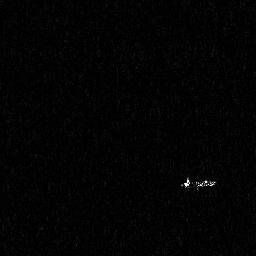ship: (178, 175, 217, 194)
